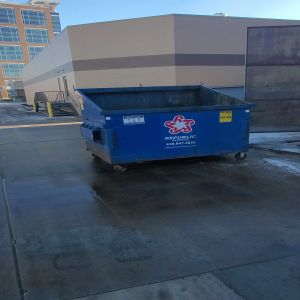Dumpster: (72, 86, 255, 170)
